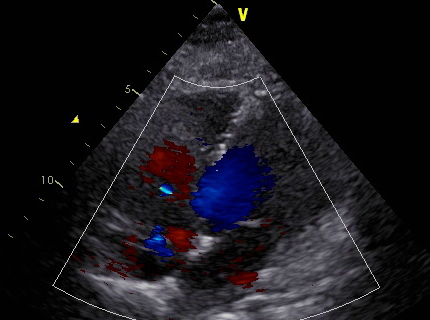TR: (135, 163, 194, 224)
